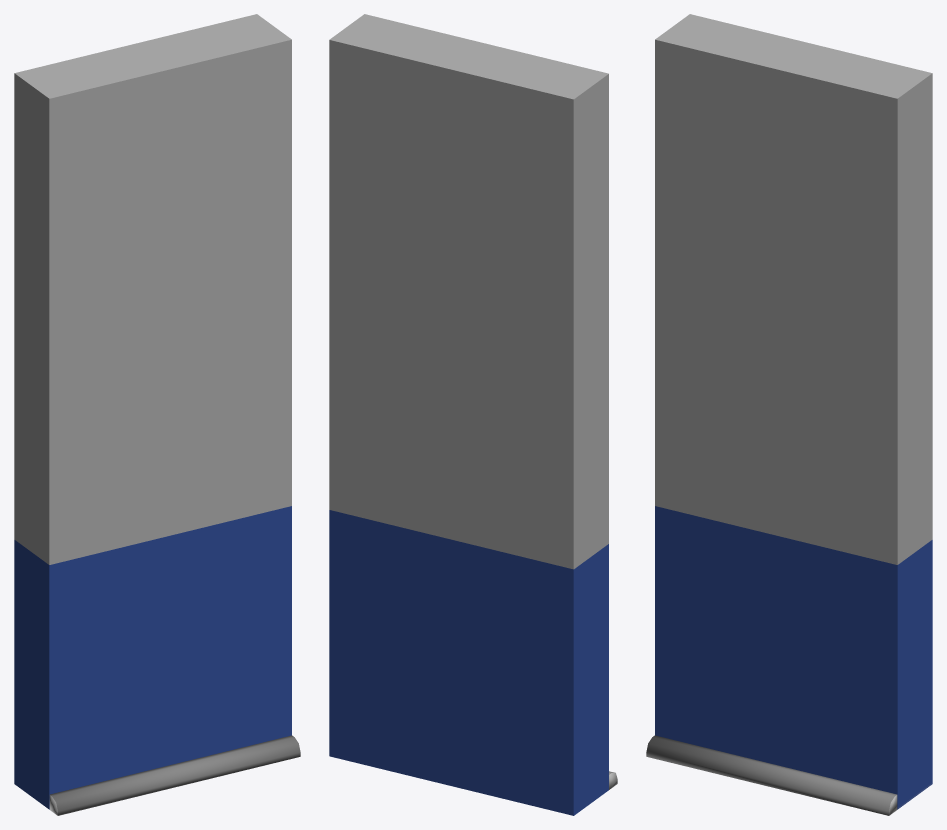
The model's file is Wall1.fbx.
3 renders of one model, left to right at view 1: azimuth 30°, elevation 25°; view 2: azimuth 150°, elevation 25°; view 3: azimuth 330°, elevation 25°, orthographic.
Visible parts, largest first — view 1: Wall; view 2: Wall; view 3: Wall.
Boxes of the visible parts, x1,y1,x2,y2 form: Wall: (14,14,300,815); Wall: (329,14,617,815); Wall: (646,14,932,815).
Size of the model in its own units: 100 by 280 by 31.07.
Materials: 1 (1 with a texture image).
